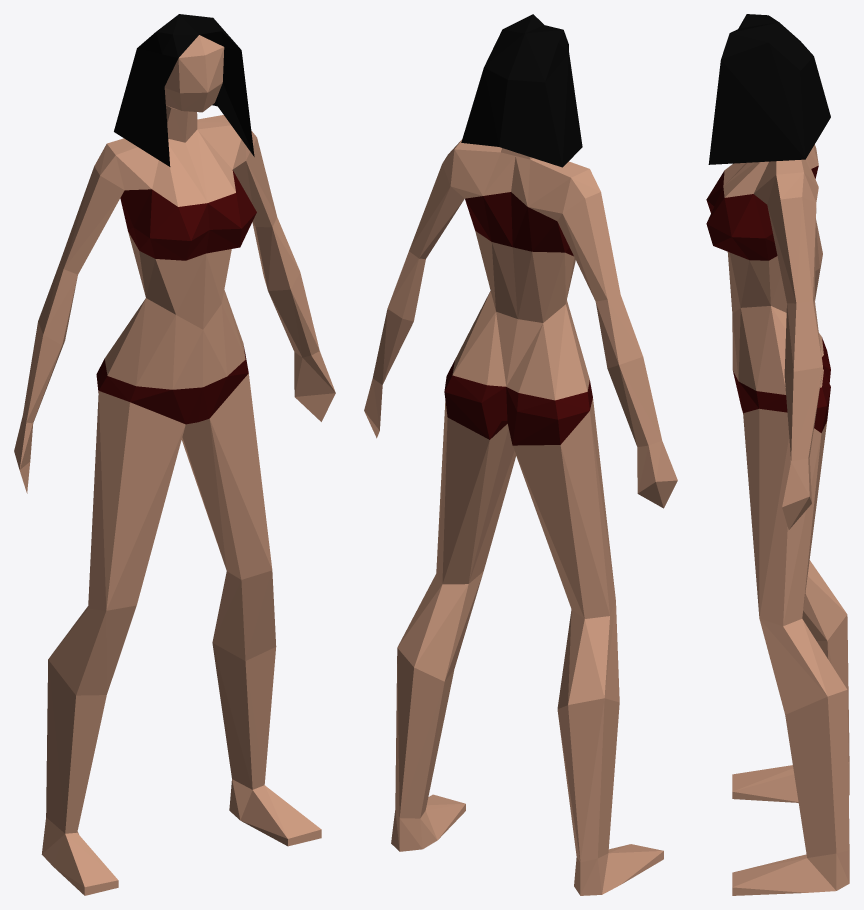
Rendered from Human_Women_unclothed.fbx.
3 renders of one model, left to right at view 1: azimuth 30°, elevation 25°; view 2: azimuth 150°, elevation 25°; view 3: azimuth 270°, elevation 25°, orthographic. The views are drawn at different scales.
Parts seen in each view (by area): view 1: Human_Women_unclothed; view 2: Human_Women_unclothed; view 3: Human_Women_unclothed.
Part boxes in pixels (x1=…): Human_Women_unclothed: x1=14, y1=14, x2=335, y2=895; Human_Women_unclothed: x1=364, y1=14, x2=677, y2=895; Human_Women_unclothed: x1=706, y1=14, x2=849, y2=895.
Size of the model in its own units: 85.59 by 216 by 34.3.
